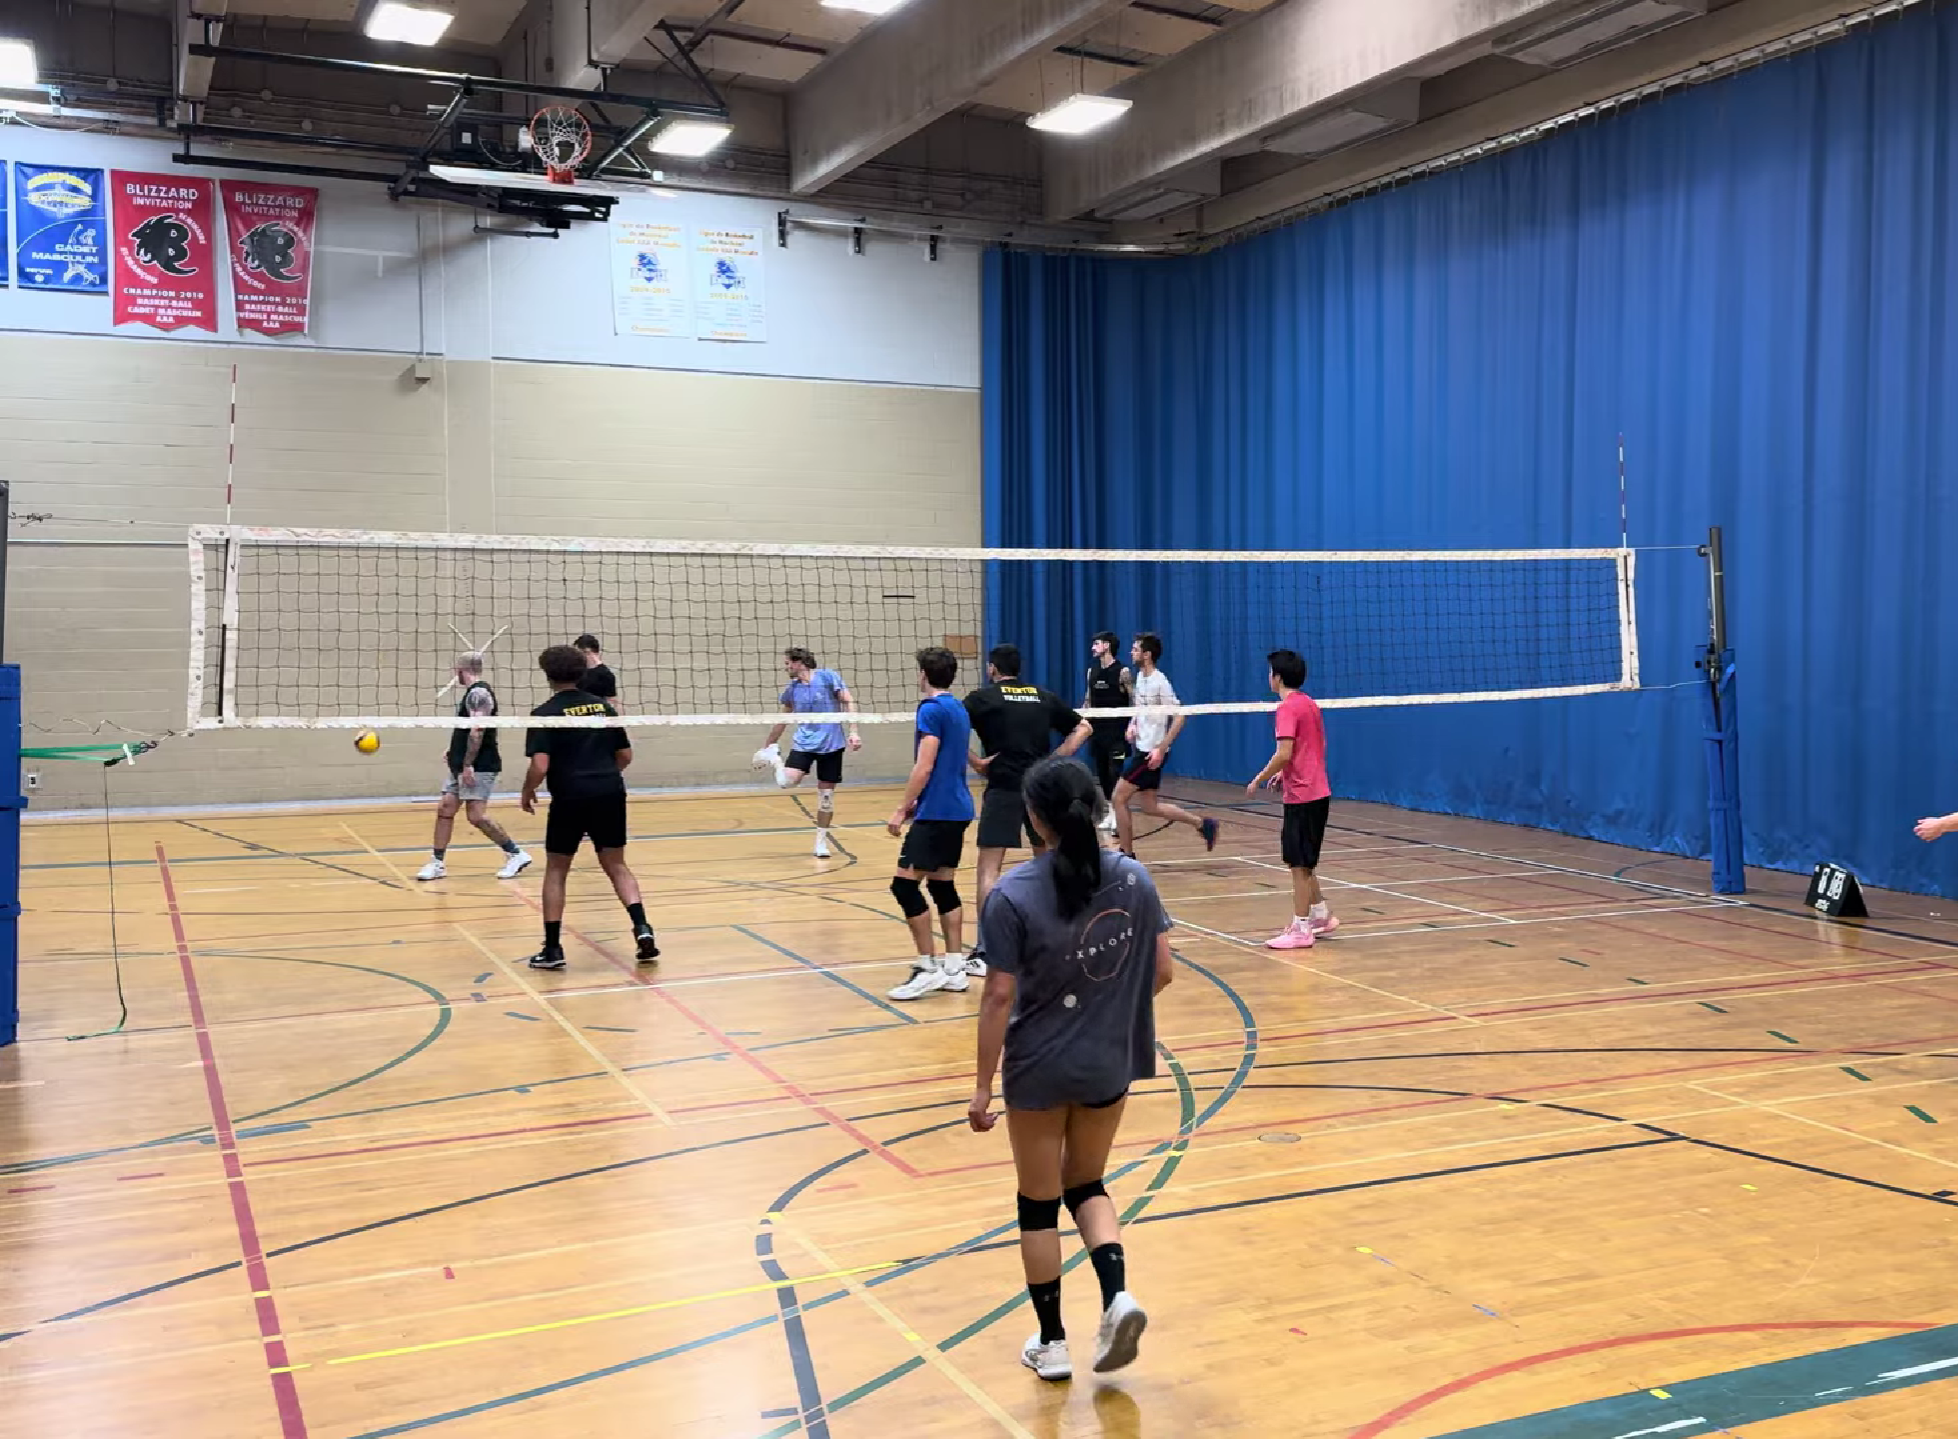Ball: (353, 728, 382, 757)
